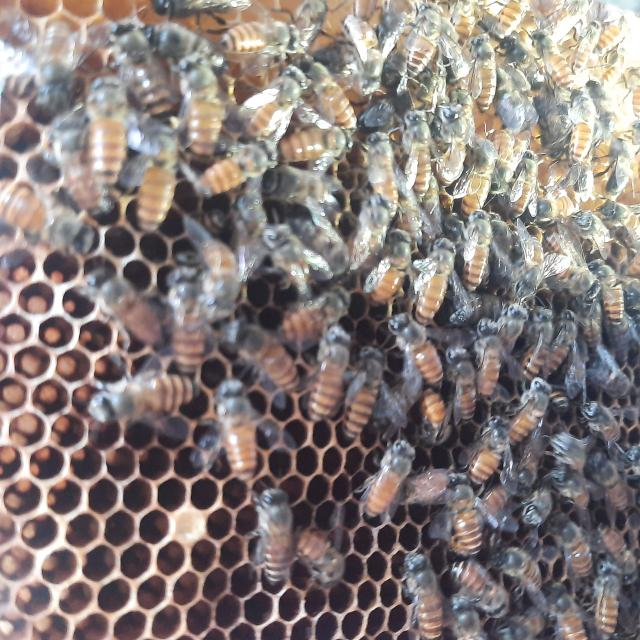honeybee: (83, 258, 153, 356), (52, 110, 110, 228), (85, 369, 200, 425), (0, 174, 86, 248), (82, 74, 132, 182), (220, 316, 292, 388), (30, 12, 80, 109), (338, 340, 388, 436), (233, 61, 300, 132), (343, 0, 391, 96), (197, 140, 271, 202), (393, 548, 442, 640), (210, 372, 256, 470), (251, 485, 300, 576), (296, 49, 352, 126), (133, 113, 173, 220), (364, 432, 411, 522), (178, 63, 222, 159), (169, 264, 209, 365), (117, 22, 163, 109), (396, 312, 446, 389), (199, 226, 240, 319), (504, 372, 550, 453), (400, 106, 440, 199), (266, 226, 312, 304), (280, 291, 346, 345), (367, 227, 411, 308), (462, 26, 502, 114), (232, 188, 271, 278), (467, 406, 510, 487), (352, 192, 391, 278), (454, 552, 505, 615), (218, 14, 298, 54), (280, 121, 356, 162), (280, 162, 342, 211), (441, 344, 478, 426), (365, 134, 406, 207), (407, 2, 445, 79), (313, 326, 346, 412), (596, 561, 630, 639), (413, 239, 452, 306), (306, 216, 346, 280), (146, 0, 256, 23), (450, 484, 488, 550), (556, 515, 593, 582), (564, 85, 597, 159), (588, 452, 628, 512), (505, 149, 543, 212), (289, 1, 334, 54), (462, 134, 492, 212), (571, 207, 614, 260), (582, 397, 624, 450), (517, 224, 549, 292), (604, 136, 636, 204), (303, 530, 343, 584), (592, 7, 632, 61), (495, 296, 529, 358), (466, 219, 494, 293), (446, 280, 485, 332), (547, 590, 587, 640), (592, 260, 623, 322), (0, 39, 32, 99), (574, 20, 604, 84), (554, 310, 583, 375), (503, 61, 531, 126), (419, 378, 444, 450), (600, 519, 632, 574), (533, 31, 562, 90), (492, 545, 530, 589), (529, 303, 553, 372), (470, 333, 499, 390), (557, 459, 588, 507), (597, 352, 625, 396), (619, 63, 640, 118), (500, 0, 526, 39)
